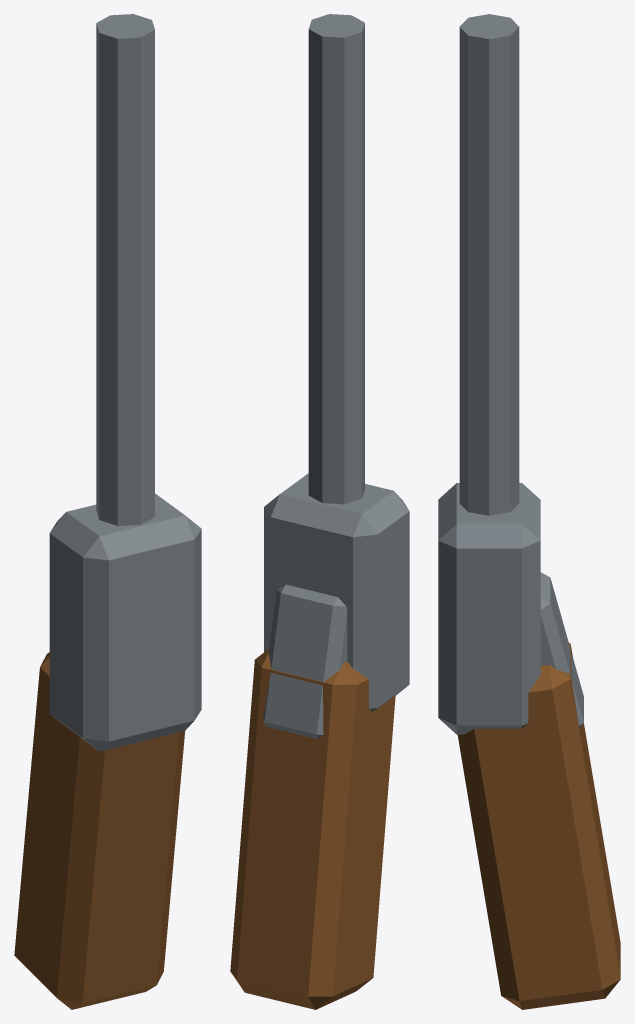
Rendered from pieza-villager-firearm-e4-BOchMqqJ.glb.
The picture shows the model from 3 angles, left to right: view 1: azimuth 30°, elevation 25°; view 2: azimuth 150°, elevation 25°; view 3: azimuth 270°, elevation 25°; orthographic projection. The views are drawn at different scales.
Parts seen in each view (by area): view 1: prop_firearm_e4; view 2: prop_firearm_e4; view 3: prop_firearm_e4.
Part boxes in pixels (x1,y1,x2,y2): prop_firearm_e4: (14,14,201,1009); prop_firearm_e4: (230,14,409,1009); prop_firearm_e4: (438,14,620,1009).
Bounding box in the file's own units: 0.72 × 5.72 × 0.9808.
